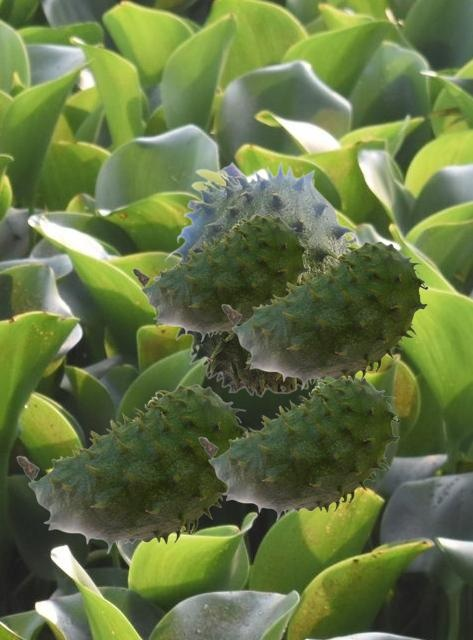guyabano: (152, 159, 357, 397), (16, 384, 248, 553), (221, 241, 427, 389), (198, 376, 399, 520), (132, 214, 309, 341)
